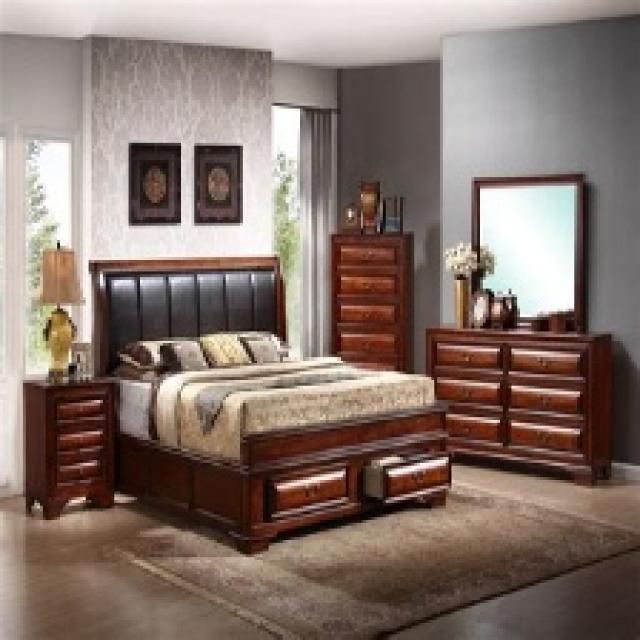Bed: (86, 255, 451, 554)
